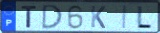6: (66, 4, 85, 30)
D: (41, 4, 64, 30)
I: (121, 5, 129, 30)
K: (90, 5, 107, 30)
L: (136, 5, 154, 30)
T: (21, 5, 38, 29)
